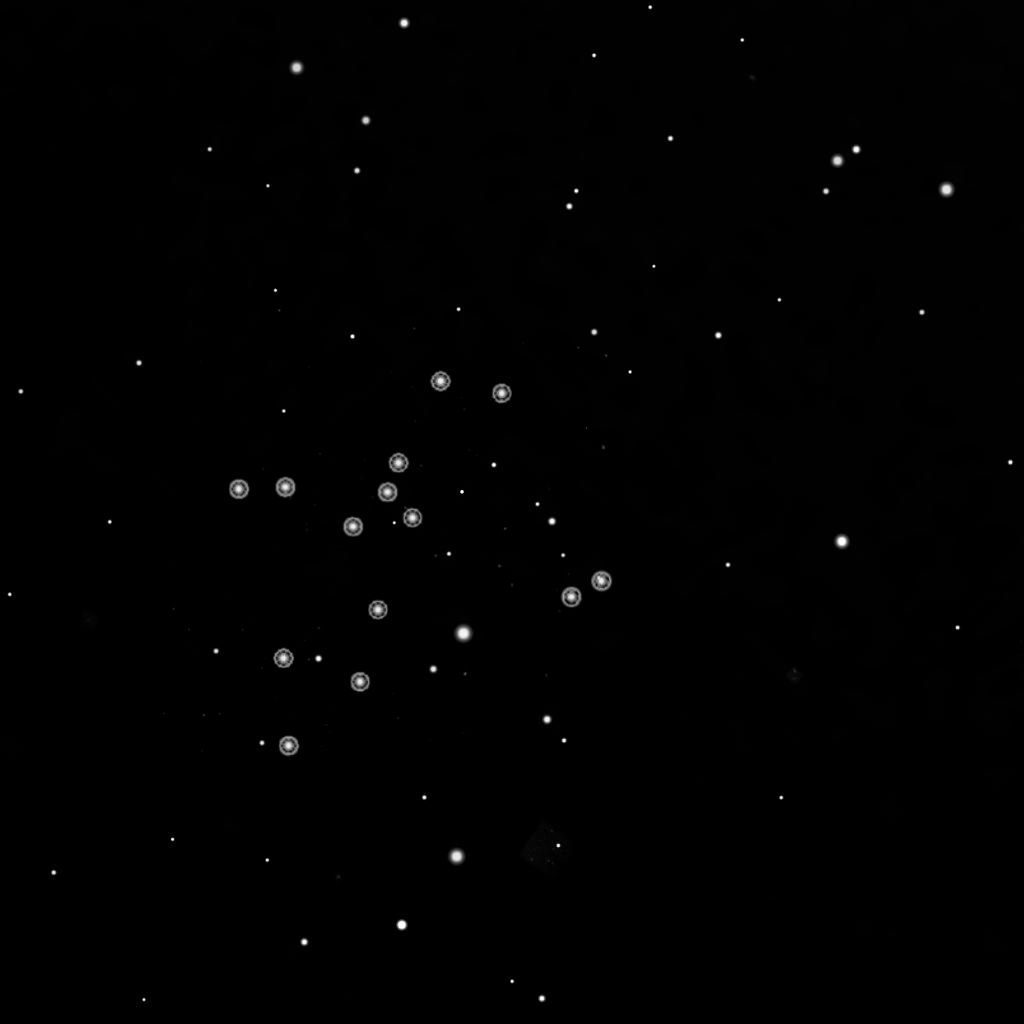canis_major: (332, 367, 520, 550)
